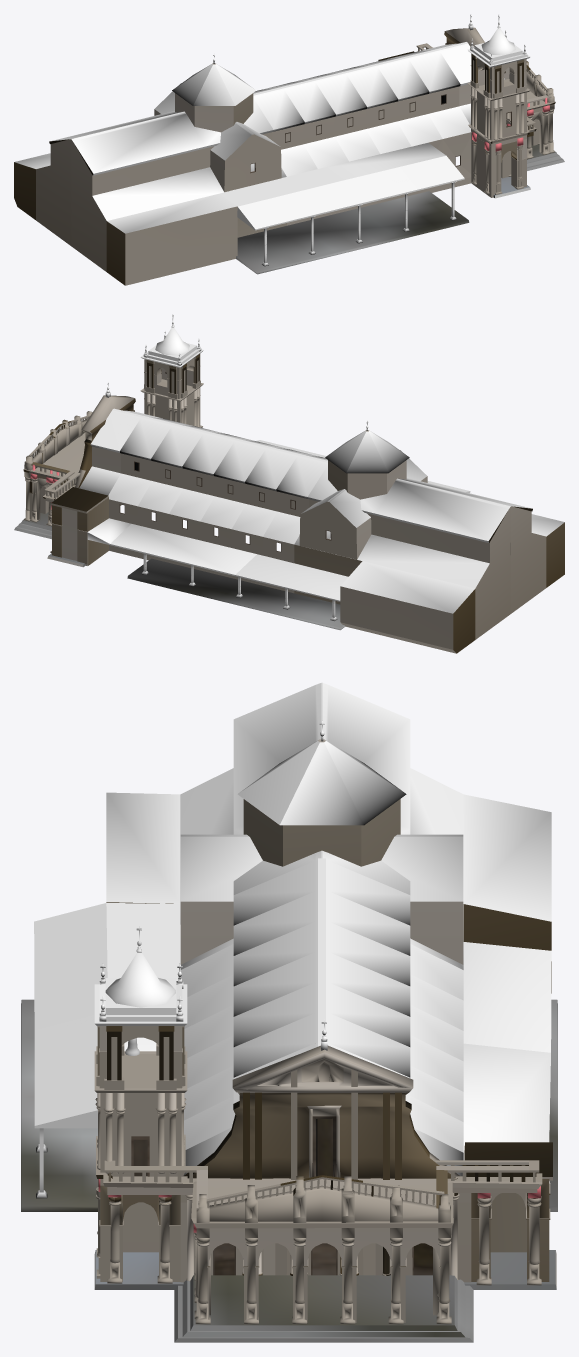
File: TesteIgreja.fbx
3 renders of one model, top to bottom at view 1: azimuth 30°, elevation 25°; view 2: azimuth 150°, elevation 25°; view 3: azimuth 270°, elevation 25°, orthographic. The views are drawn at different scales.
Parts seen in each view (by area): view 1: Main, Main.002, Cube.033, Chao.006, SalaLateral, Domo, Cube.003, Main.003, Cube.001, ParedeSino.001, ArcosFrontais.005, Cube.032 (+11 smaller); view 2: Main, Main.002, Cube.020, Chao.006, SalaLateral, Domo, Main.003, Cube.014, Cube.003, ChaoVaranda, ParedeSino.001, Cube.013 (+11 smaller); view 3: Main.002, Main, Cube.033, Cube.014, Cube.020, Chao.001, Domo, SalaLateral, Chao.006, Cube.003, ArcosFrontais, PilastrasFrente (+26 smaller).
Boxes of the visible parts, <box> form: Main: <box>14,98,286,285</box>; Main.002: <box>253,49,471,225</box>; Cube.033: <box>219,143,464,230</box>; Chao.006: <box>236,191,469,274</box>; SalaLateral: <box>154,83,281,192</box>; Domo: <box>172,63,256,132</box>; Cube.003: <box>467,79,530,147</box>; Main.003: <box>410,42,471,124</box>; Cube.001: <box>471,132,501,197</box>; ParedeSino.001: <box>470,54,526,98</box>; ArcosFrontais.005: <box>501,124,527,187</box>; Cube.032: <box>262,181,456,266</box>; Main: <box>294,465,564,653</box>; Main.002: <box>108,415,327,593</box>; Cube.020: <box>87,518,348,601</box>; Chao.006: <box>127,558,345,630</box>; SalaLateral: <box>299,450,427,559</box>; Domo: <box>325,430,409,499</box>; Main.003: <box>79,408,169,495</box>; Cube.014: <box>73,395,135,488</box>; Cube.003: <box>140,379,203,426</box>; ChaoVaranda: <box>35,433,85,502</box>; ParedeSino.001: <box>144,354,200,398</box>; Cube.013: <box>51,487,108,513</box>; Main.002: <box>181,858,463,1152</box>; Main: <box>106,682,551,993</box>; Cube.033: <box>34,903,180,1128</box>; Cube.014: <box>184,1045,460,1178</box>; Cube.020: <box>463,942,551,1183</box>; Chao.001: <box>174,1275,473,1342</box>; Domo: <box>237,739,406,866</box>; SalaLateral: <box>180,834,463,964</box>; Chao.006: <box>21,999,557,1211</box>; Cube.003: <box>94,1051,187,1185</box>; ArcosFrontais: <box>207,1228,440,1322</box>; PilastrasFrente: <box>195,1235,451,1324</box>.
Size of the model in its own units: 6702 by 2409 by 3412.
